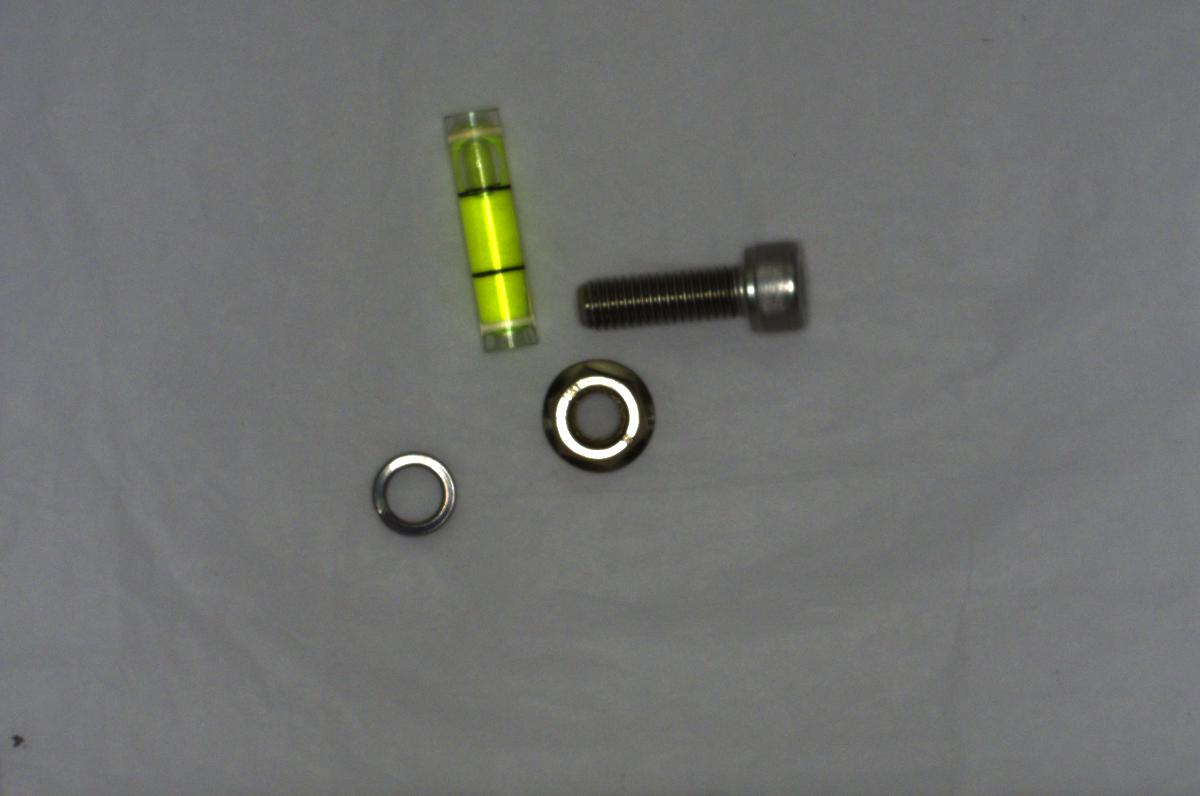Flange nut: (533, 348, 668, 479)
Hexagon screw: (570, 233, 819, 341)
Horizontal bubble: (440, 96, 542, 355)
Spring washer: (361, 441, 460, 540)
